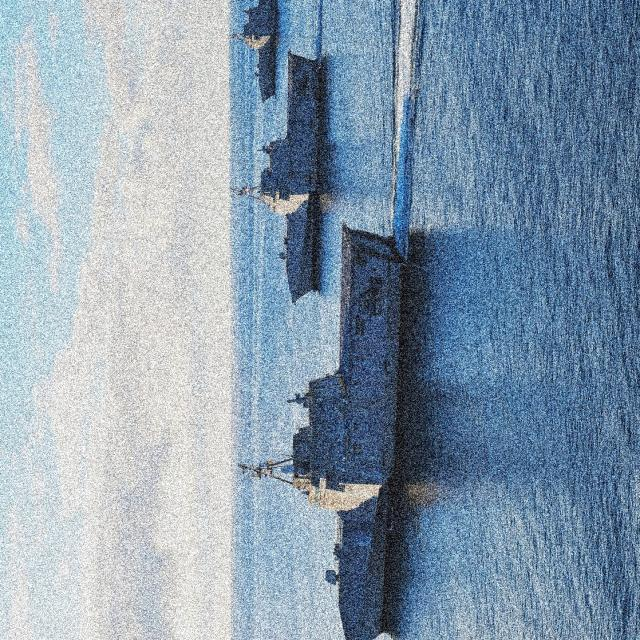ship2: (292, 223, 393, 639), (251, 52, 338, 304)
